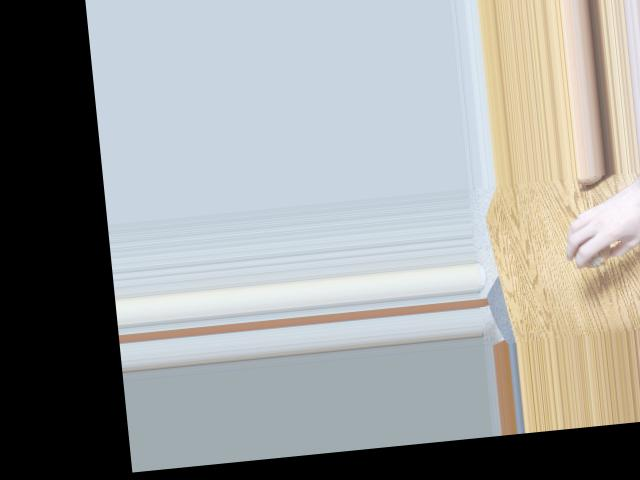onion: (568, 230, 615, 271)
